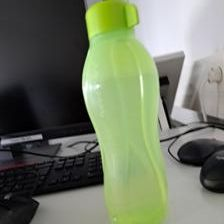bottle: (76, 0, 168, 224)
